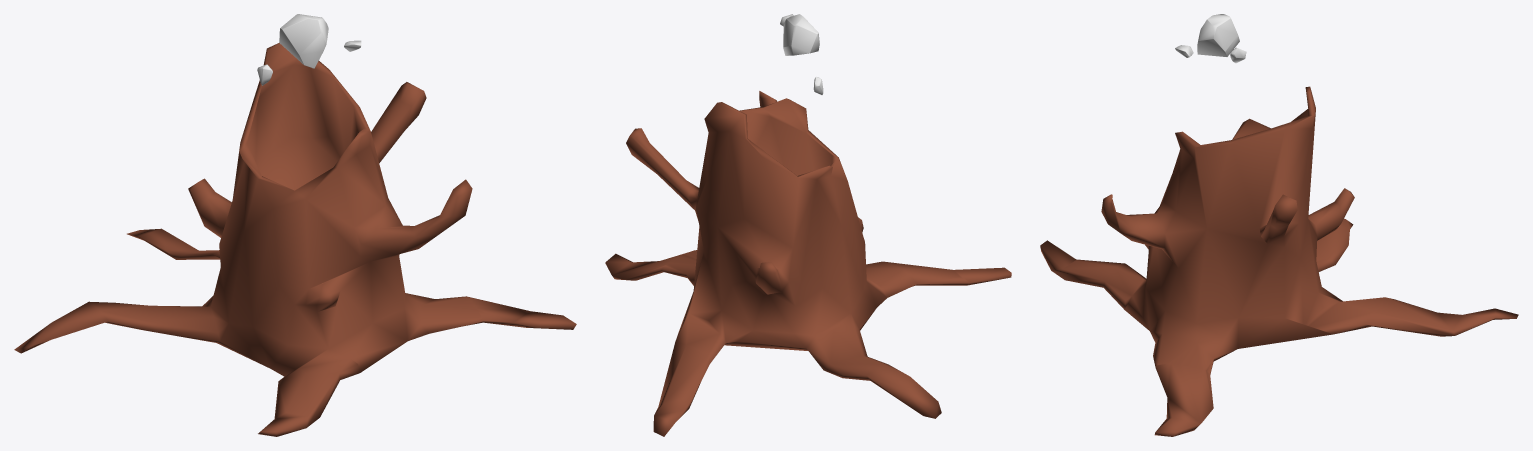
The model's file is mesh_tronco2.fbx.
3 views of the same model, side by side, from view 1: azimuth 30°, elevation 25°; view 2: azimuth 150°, elevation 25°; view 3: azimuth 270°, elevation 25° (orthographic). The views are drawn at different scales.
Parts seen in each view (by area): view 1: Sphere.001; view 2: Sphere.001; view 3: Sphere.001.
Boxes of the visible parts, x1=… form: Sphere.001: x1=14, y1=14, x2=576, y2=436; Sphere.001: x1=605, y1=14, x2=1011, y2=436; Sphere.001: x1=1040, y1=14, x2=1518, y2=436.
Size of the model in its own units: 1275 by 925 by 1261.
